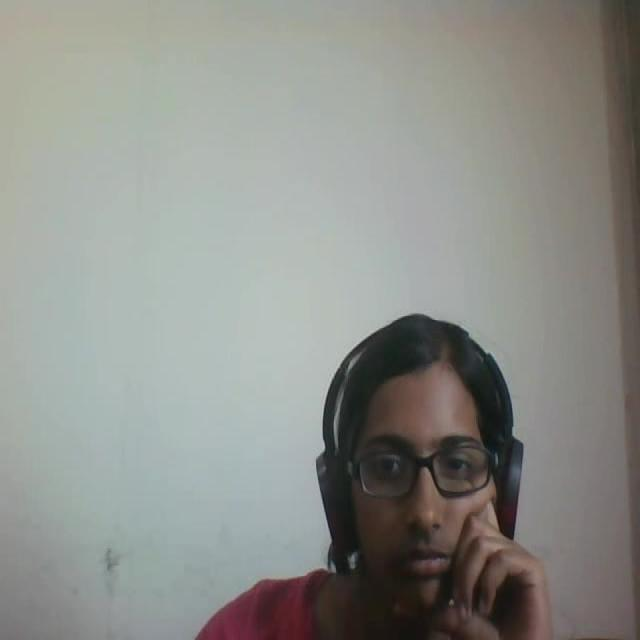Bored: (298, 284, 529, 640)
